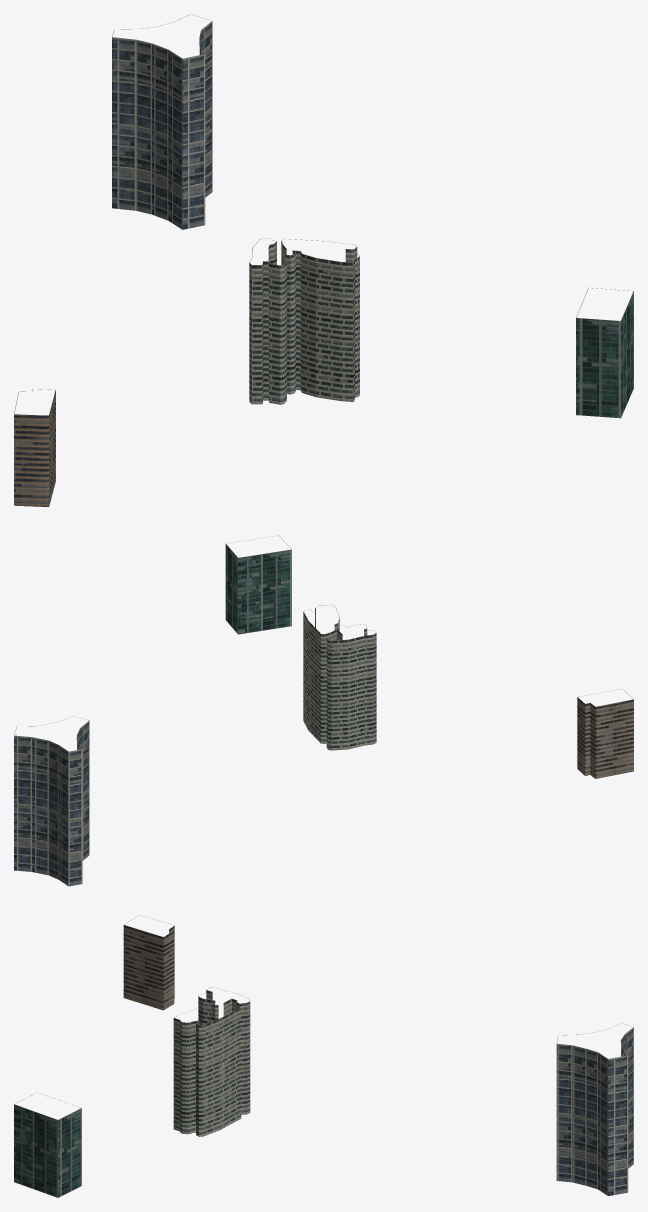
3 renders of one model, top to bottom at view 1: azimuth 30°, elevation 25°; view 2: azimuth 150°, elevation 25°; view 3: azimuth 270°, elevation 25°, orthographic. The views are drawn at different scales.
Parts seen in each view (by area): view 1: DoubleHeightFrames, StaggeredGalleries, EnamelFins, SandstoneRibbons; view 2: DoubleHeightFrames, StaggeredGalleries, EnamelFins, SandstoneRibbons; view 3: DoubleHeightFrames, StaggeredGalleries, EnamelFins, SandstoneRibbons.
Part boxes in pixels (x1,y1,x2,y2): DoubleHeightFrames: [112, 21, 212, 229]; StaggeredGalleries: [249, 241, 359, 404]; EnamelFins: [576, 292, 633, 418]; SandstoneRibbons: [14, 390, 55, 506]; DoubleHeightFrames: [14, 721, 89, 886]; StaggeredGalleries: [303, 608, 376, 750]; EnamelFins: [225, 544, 291, 634]; SandstoneRibbons: [577, 697, 633, 778]; DoubleHeightFrames: [556, 1027, 633, 1195]; StaggeredGalleries: [173, 990, 250, 1136]; EnamelFins: [14, 1104, 81, 1197]; SandstoneRibbons: [123, 925, 174, 1010].
Bounding box in the file's own units: 411 × 118 × 484.
5 materials, 5 textured.
